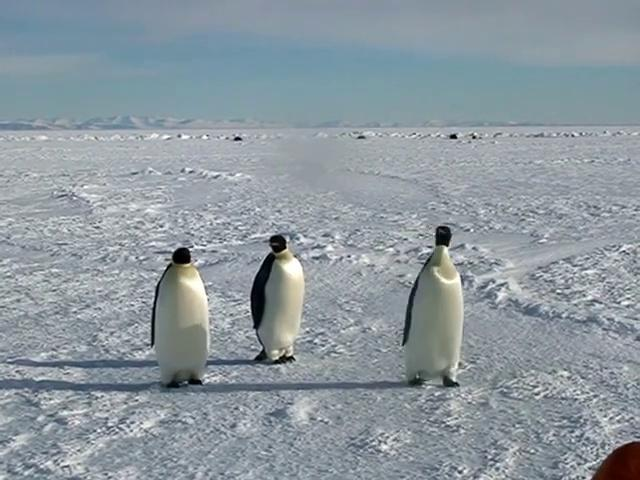animal: (404, 226, 465, 388)
